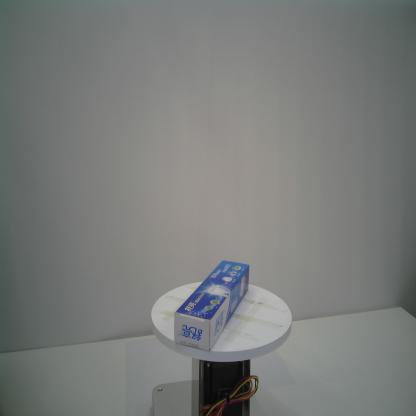Personal Hygiene: (173, 258, 250, 352)
